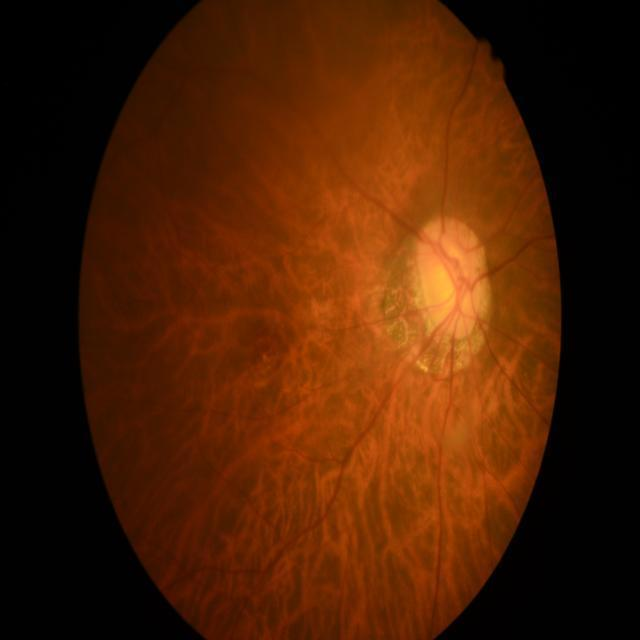cup: (440, 253, 470, 316)
disk: (418, 217, 482, 340)
